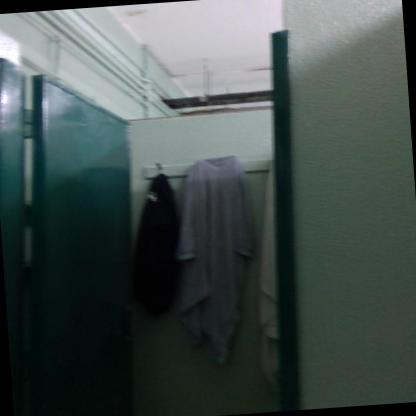open: (0, 13, 329, 415)
